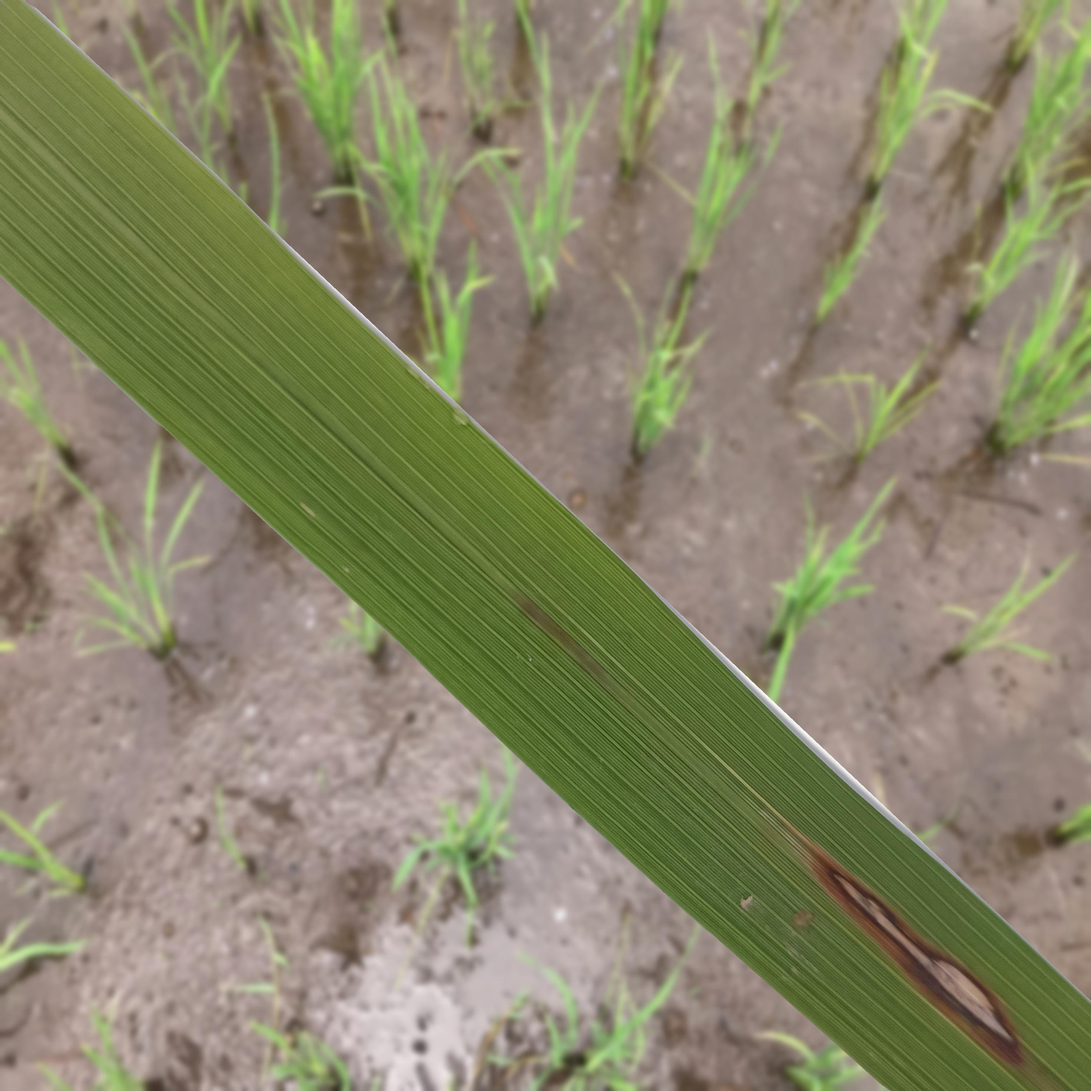LEAF BLAST: (805, 842, 1025, 1066)
